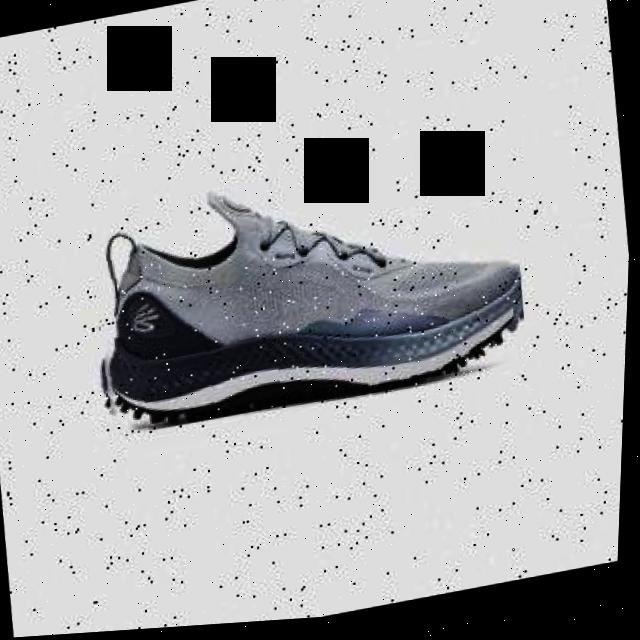shoe: (79, 142, 537, 442)
